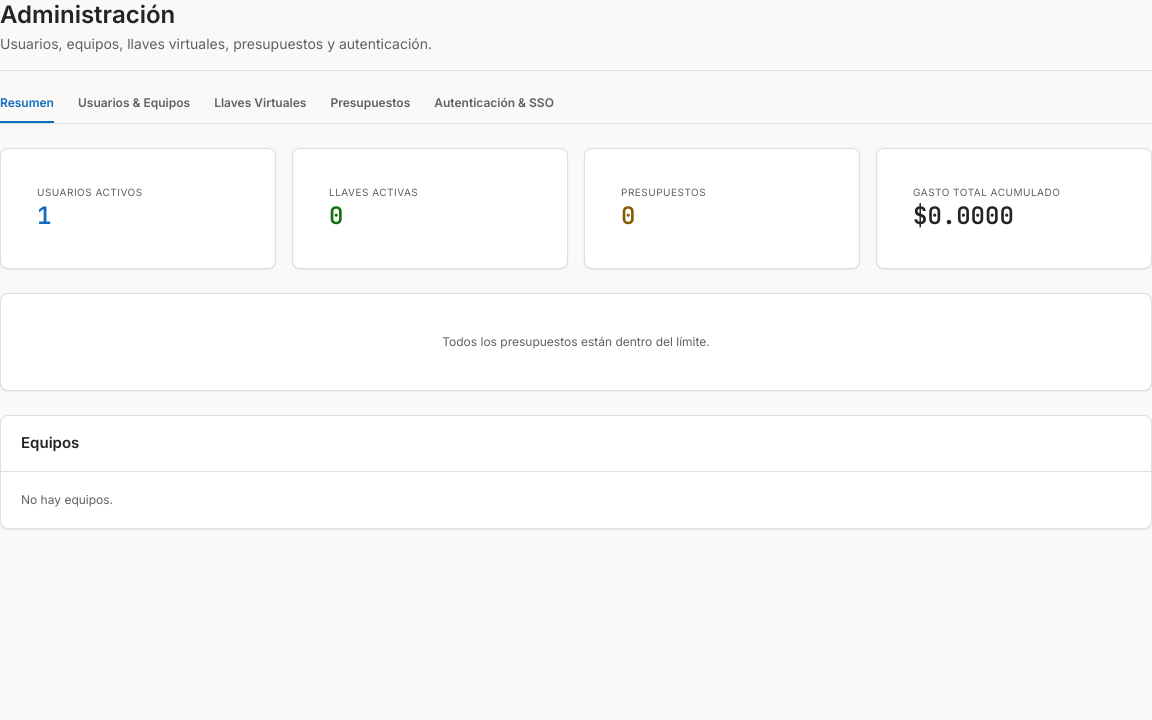
UsersPage — edición concurrente (dos pestañas) › un 409 del backend (conflicto real) se muestra sin romper la pantalla
Click the button "Usuarios & Equipos". click: [134, 109]
box: [78, 95, 190, 123]
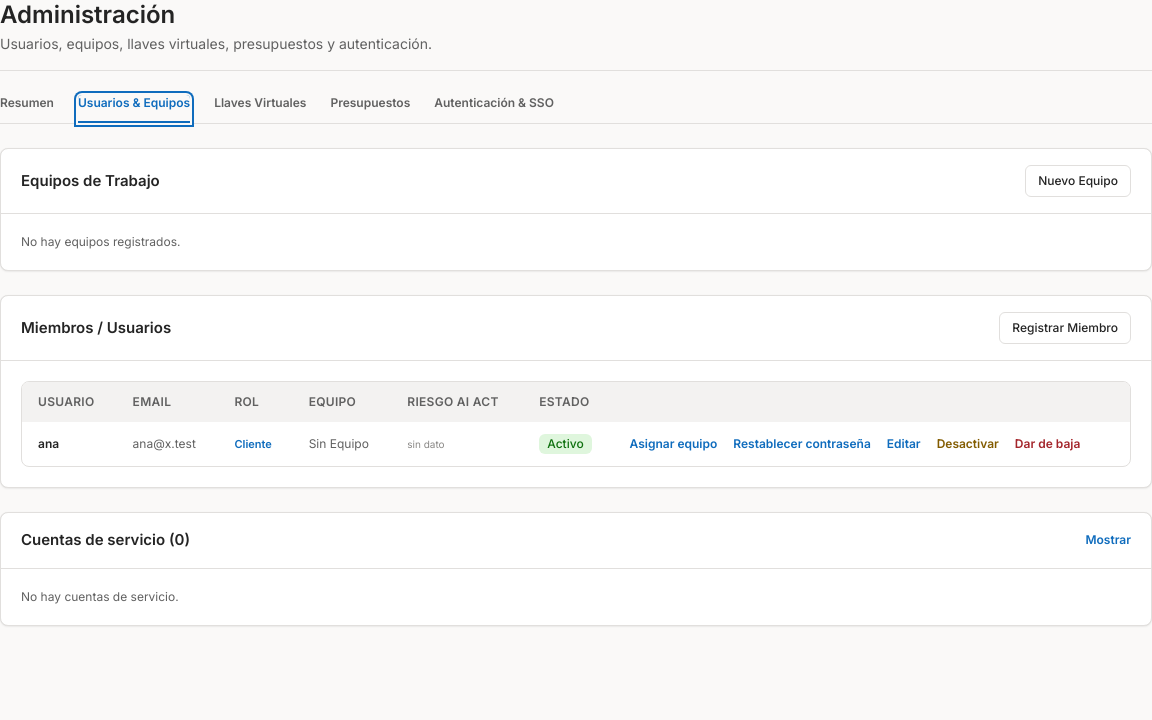
Now the text "ana" is shown, box [22, 422, 117, 466]
Click the button "Editar". click: [904, 444]
box: [887, 436, 921, 452]
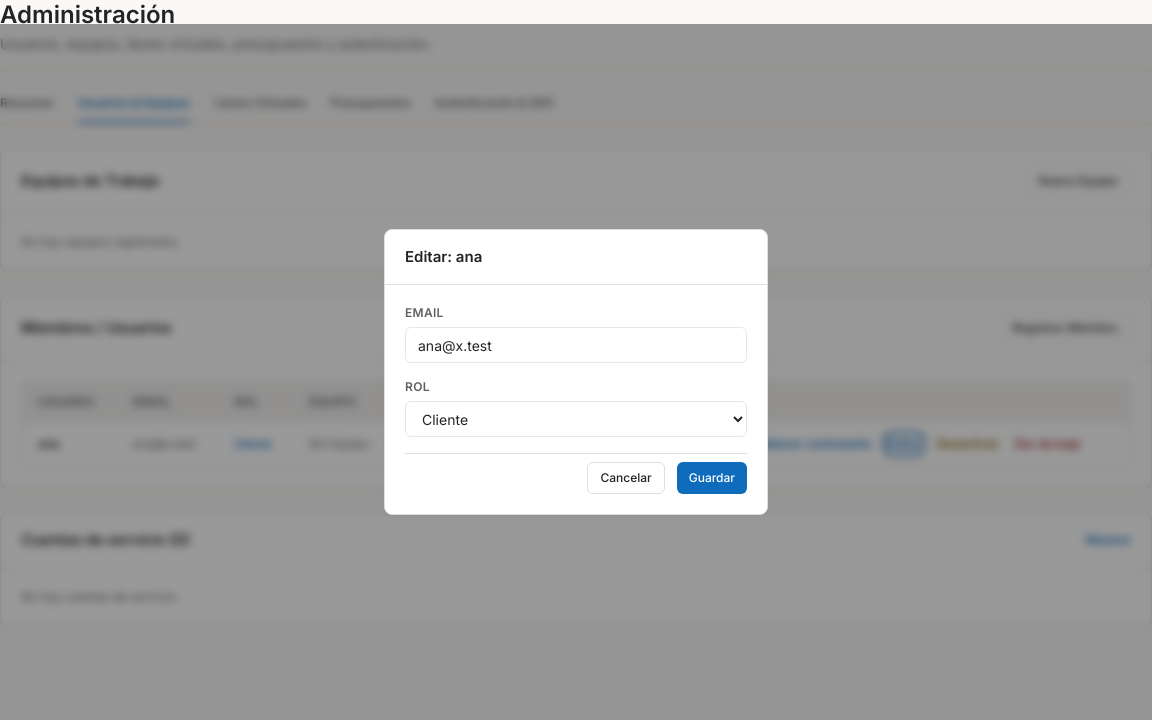
Replace the text in the field showing "ana@x.test" with "ana2@x.test". click: [576, 345]
box: [405, 327, 747, 363]
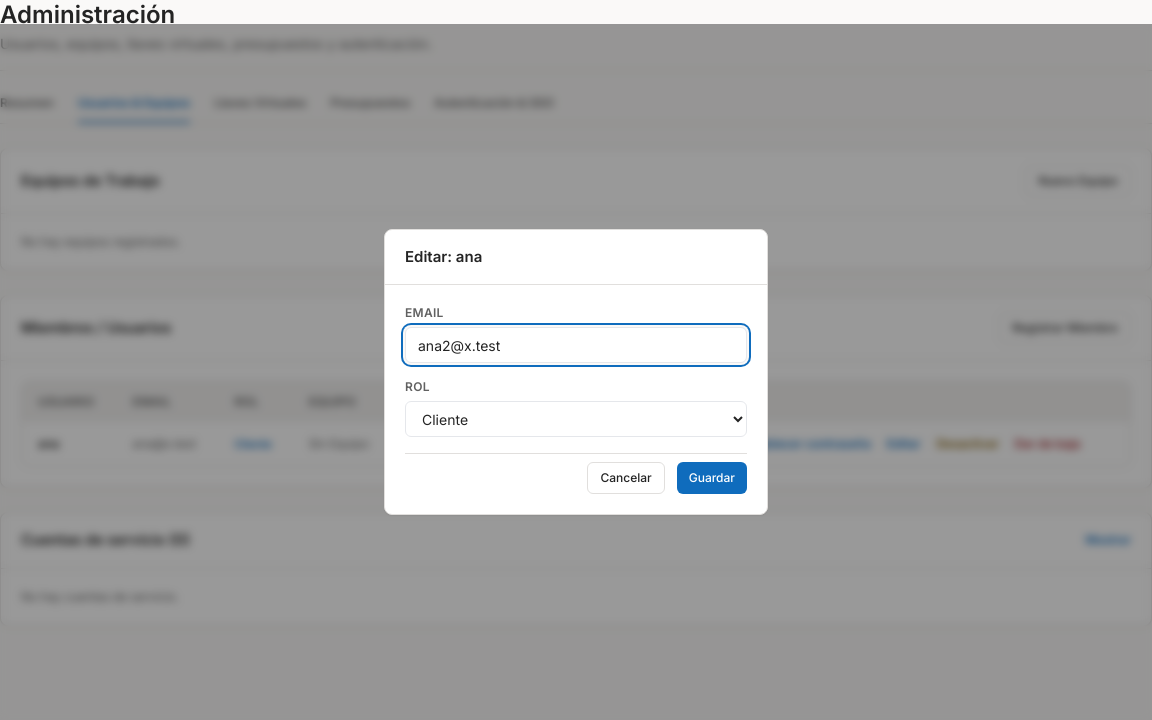
Click the button "Guardar". click: [712, 478]
box: [677, 462, 747, 494]
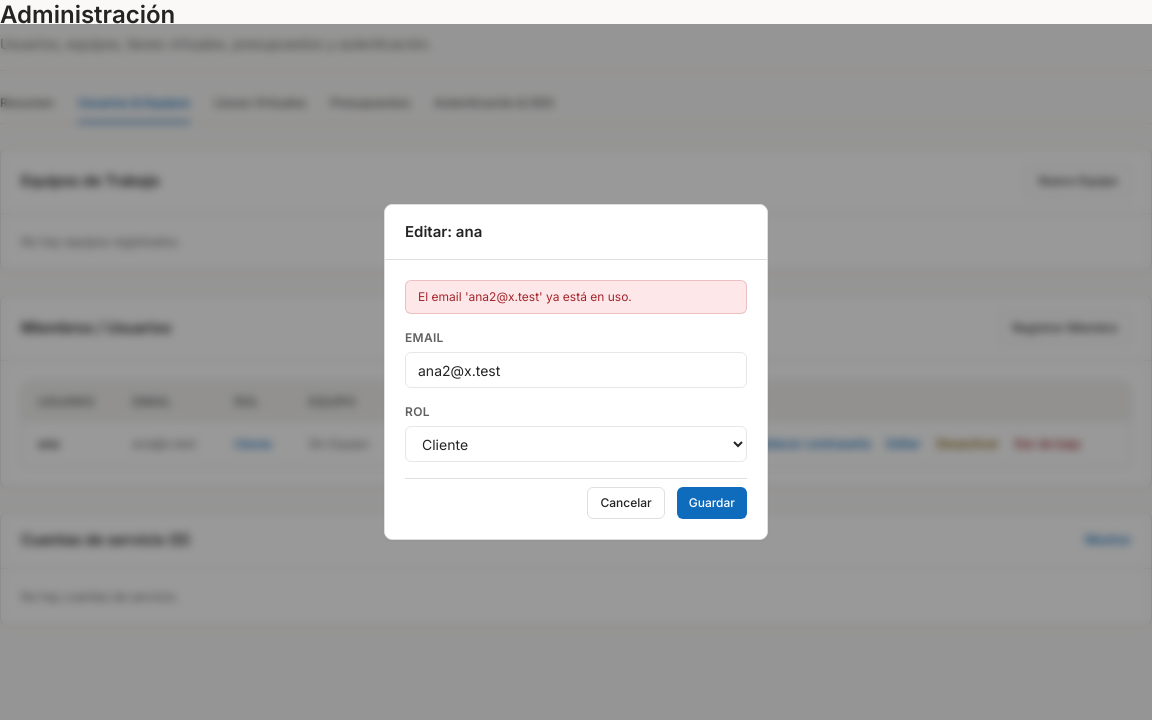
Now the text "El email 'ana2@x.test' ya está en uso." is shown, box [405, 280, 747, 314]
